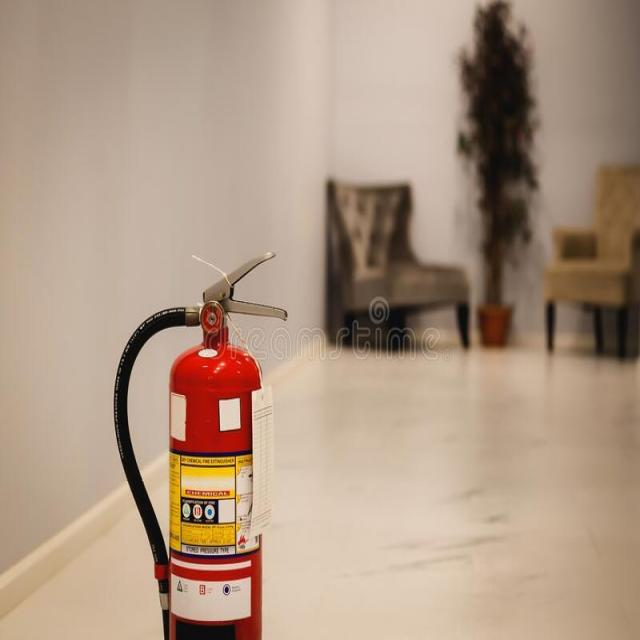fire_extinguisher: (106, 247, 288, 639)
